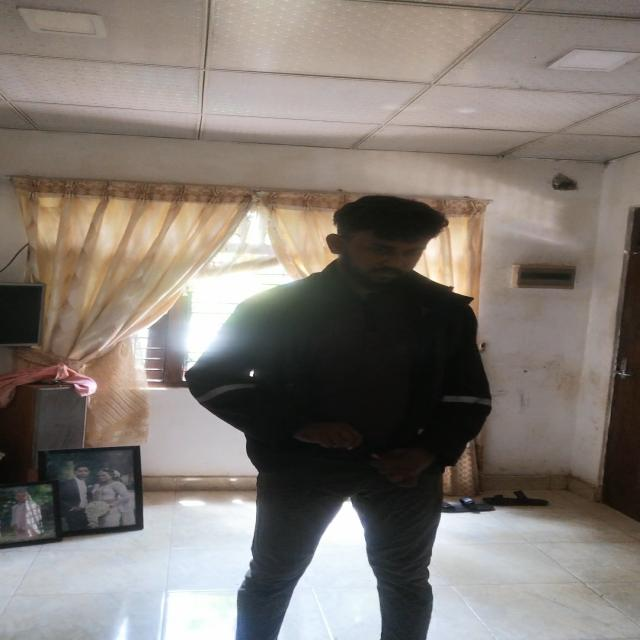Jacket_Wearer: (187, 263, 496, 501)
Person: (180, 190, 500, 640)
